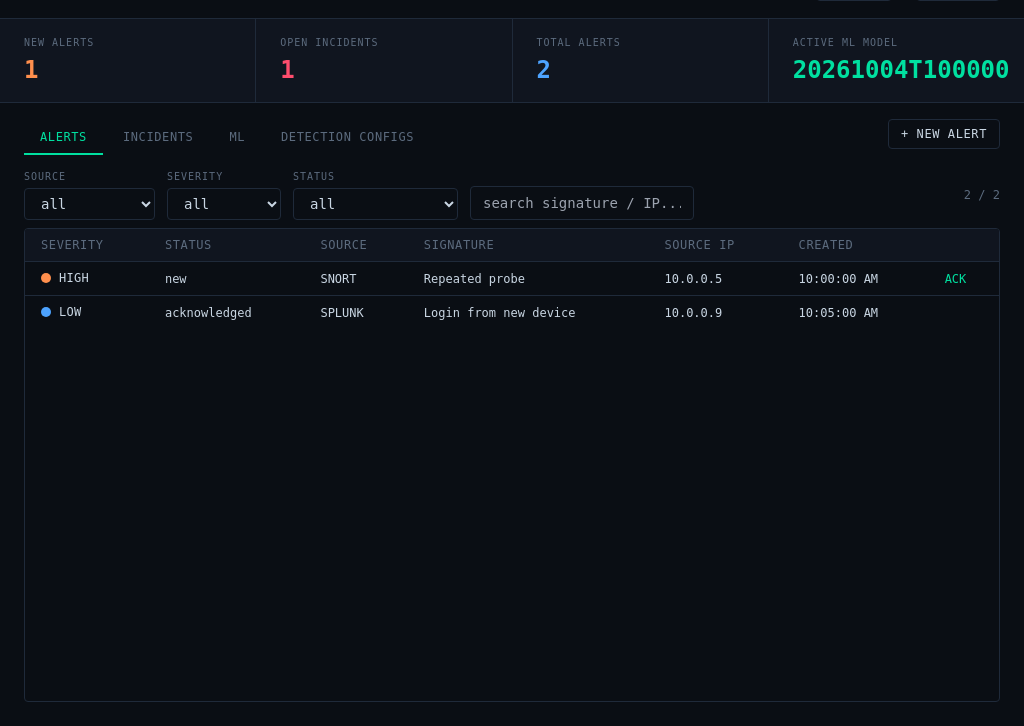
Scenario: App › explains when Gemini analysis is not configured
The image size is (1024, 726).
Check: the text "Repeated probe" is shown, box [408,262,648,296]
Click the button "incidents": (158, 138) [107,121,209,155]
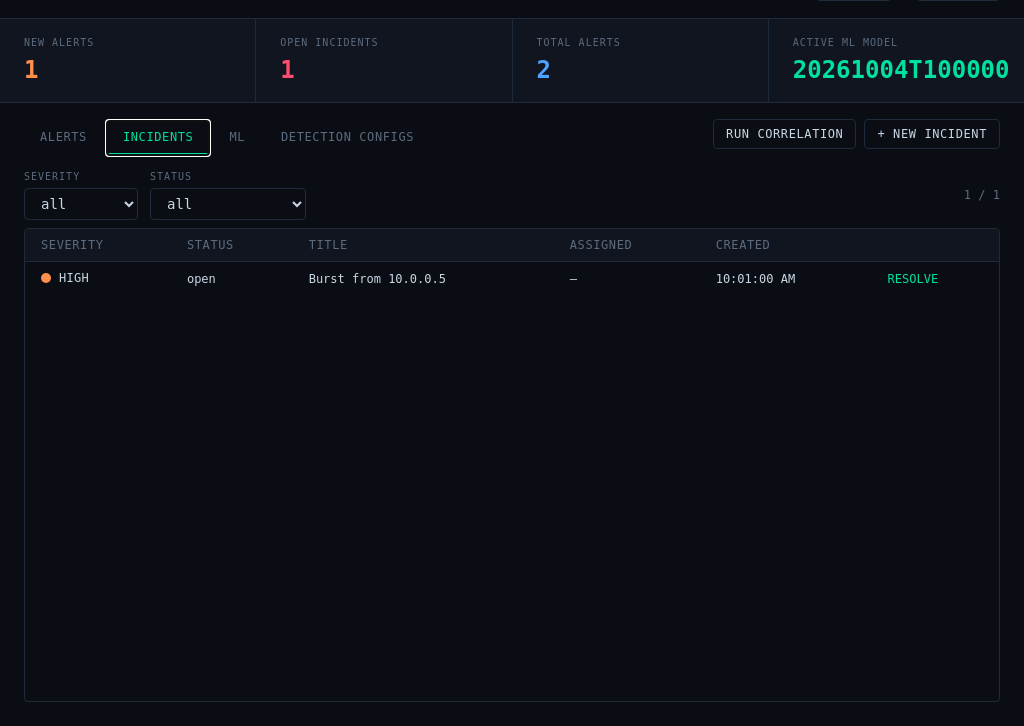
Click the text "Burst from 10.0.0.5": (423, 278) [293,262,554,295]
(page scrolled)
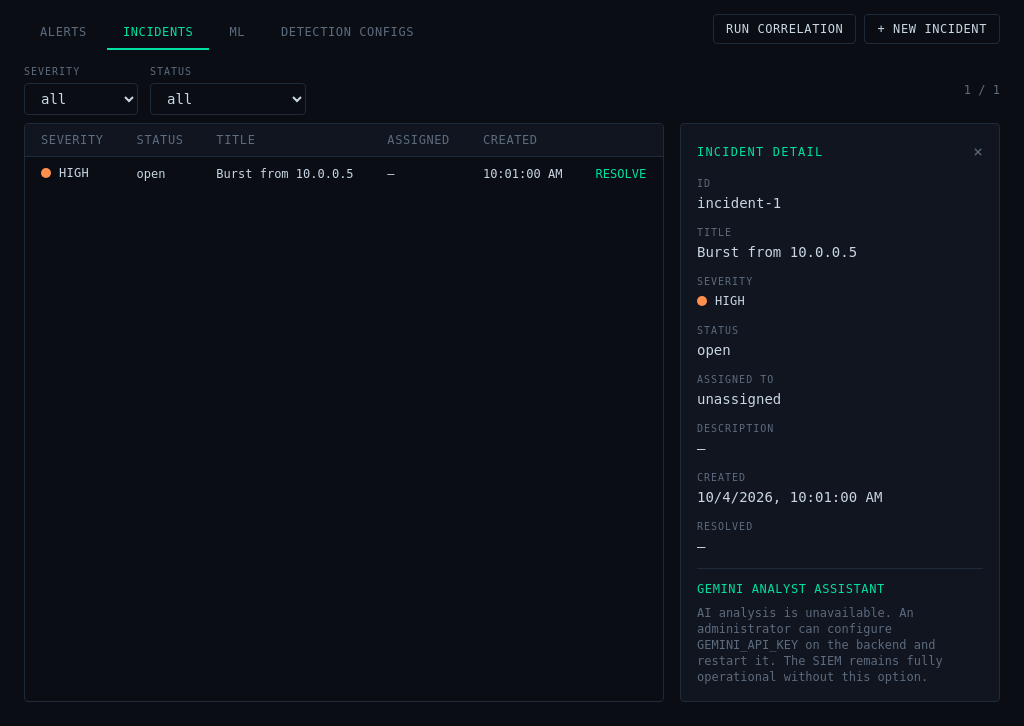
Check: the text "AI analysis is unavailable. An administrator can configure GEMINI_API_KEY" is shown, box [697,606,943,684]
